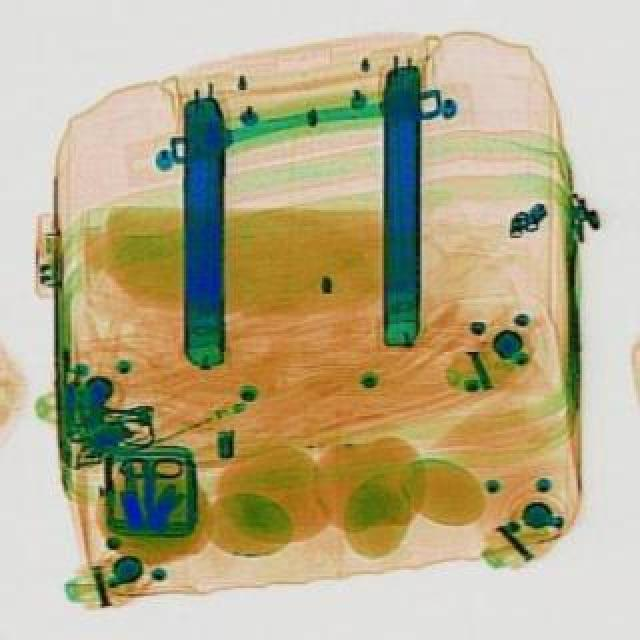pliers: (110, 452, 182, 524)
